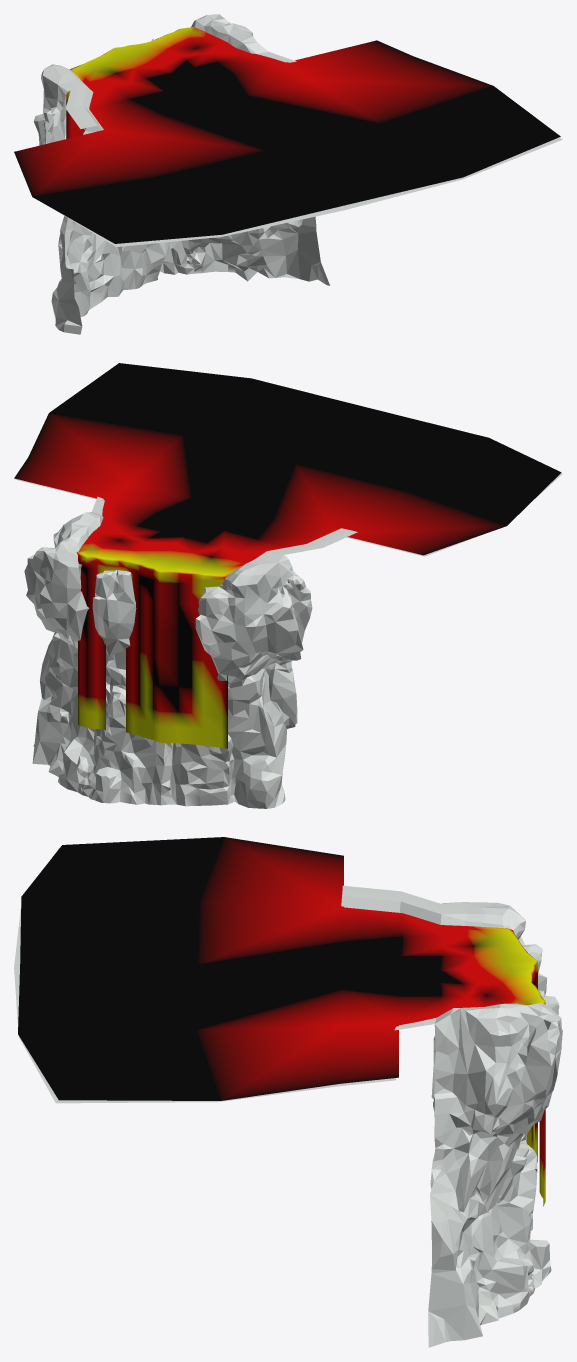
The picture shows the model from 3 angles, top to bottom: view 1: azimuth 30°, elevation 25°; view 2: azimuth 150°, elevation 25°; view 3: azimuth 270°, elevation 25°; orthographic projection. The views are drawn at different scales.
Parts seen in each view (by area): view 1: G:\FFXIV-MapTools\exports\y6f2\bg\ex5\02_ykt_y6\fld\y6f2\bgp (×2); view 2: G:\FFXIV-MapTools\exports\y6f2\bg\ex5\02_ykt_y6\fld\y6f2\bgp (×2); view 3: G:\FFXIV-MapTools\exports\y6f2\bg\ex5\02_ykt_y6\fld\y6f2\bgp (×2).
Boxes of the visible parts, x1,y1,x2,y2 form: G:\FFXIV-MapTools\exports\y6f2\bg\ex5\02_ykt_y6\fld\y6f2\bgp (×2): (14,14,562,334); G:\FFXIV-MapTools\exports\y6f2\bg\ex5\02_ykt_y6\fld\y6f2\bgp (×2): (14,363,562,808); G:\FFXIV-MapTools\exports\y6f2\bg\ex5\02_ykt_y6\fld\y6f2\bgp (×2): (14,837,562,1347).
Size of the model in its own units: 635 by 342 by 558.
